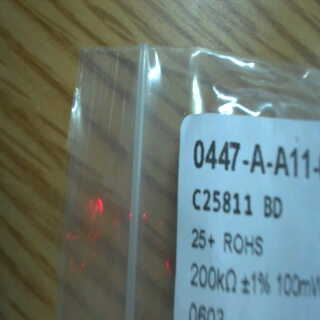200kR: (187, 264, 239, 295)
